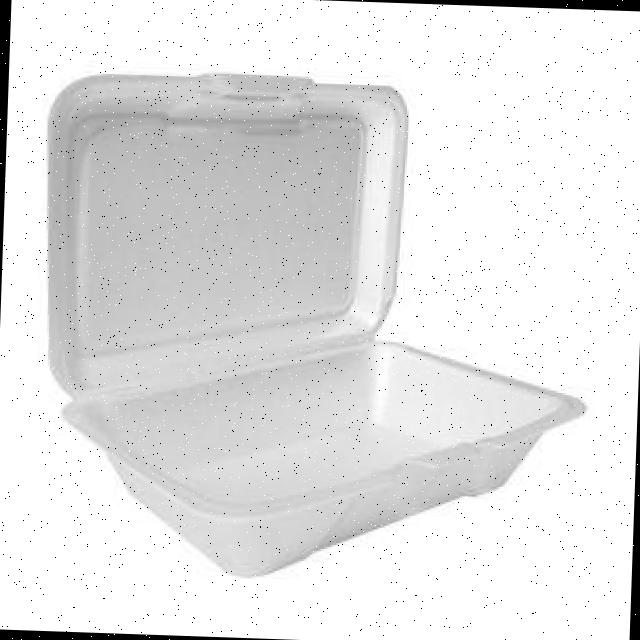styrofoam: (30, 63, 598, 590)
